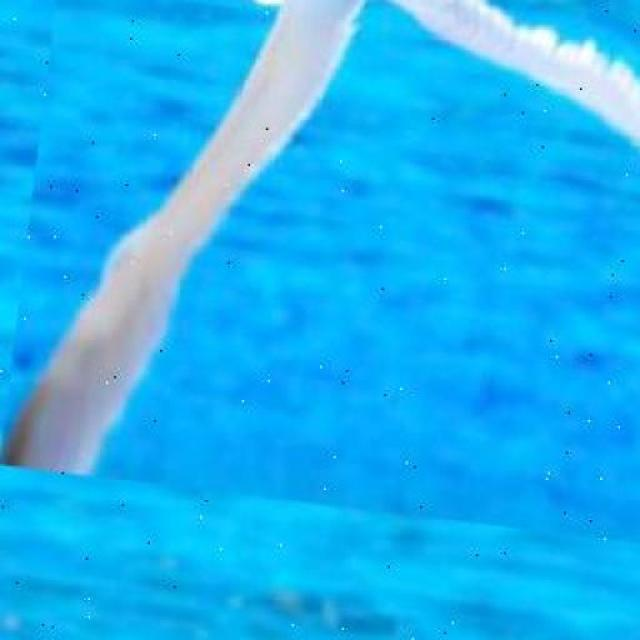airplane: (0, 0, 640, 548)
